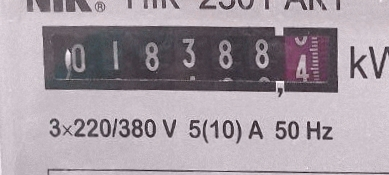0: (67, 39, 88, 75)
1: (105, 35, 124, 72)
3: (178, 34, 199, 70)
4: (291, 49, 311, 83)
8: (140, 36, 162, 73), (250, 34, 272, 71), (214, 36, 235, 72)
screen: (31, 10, 351, 108)
